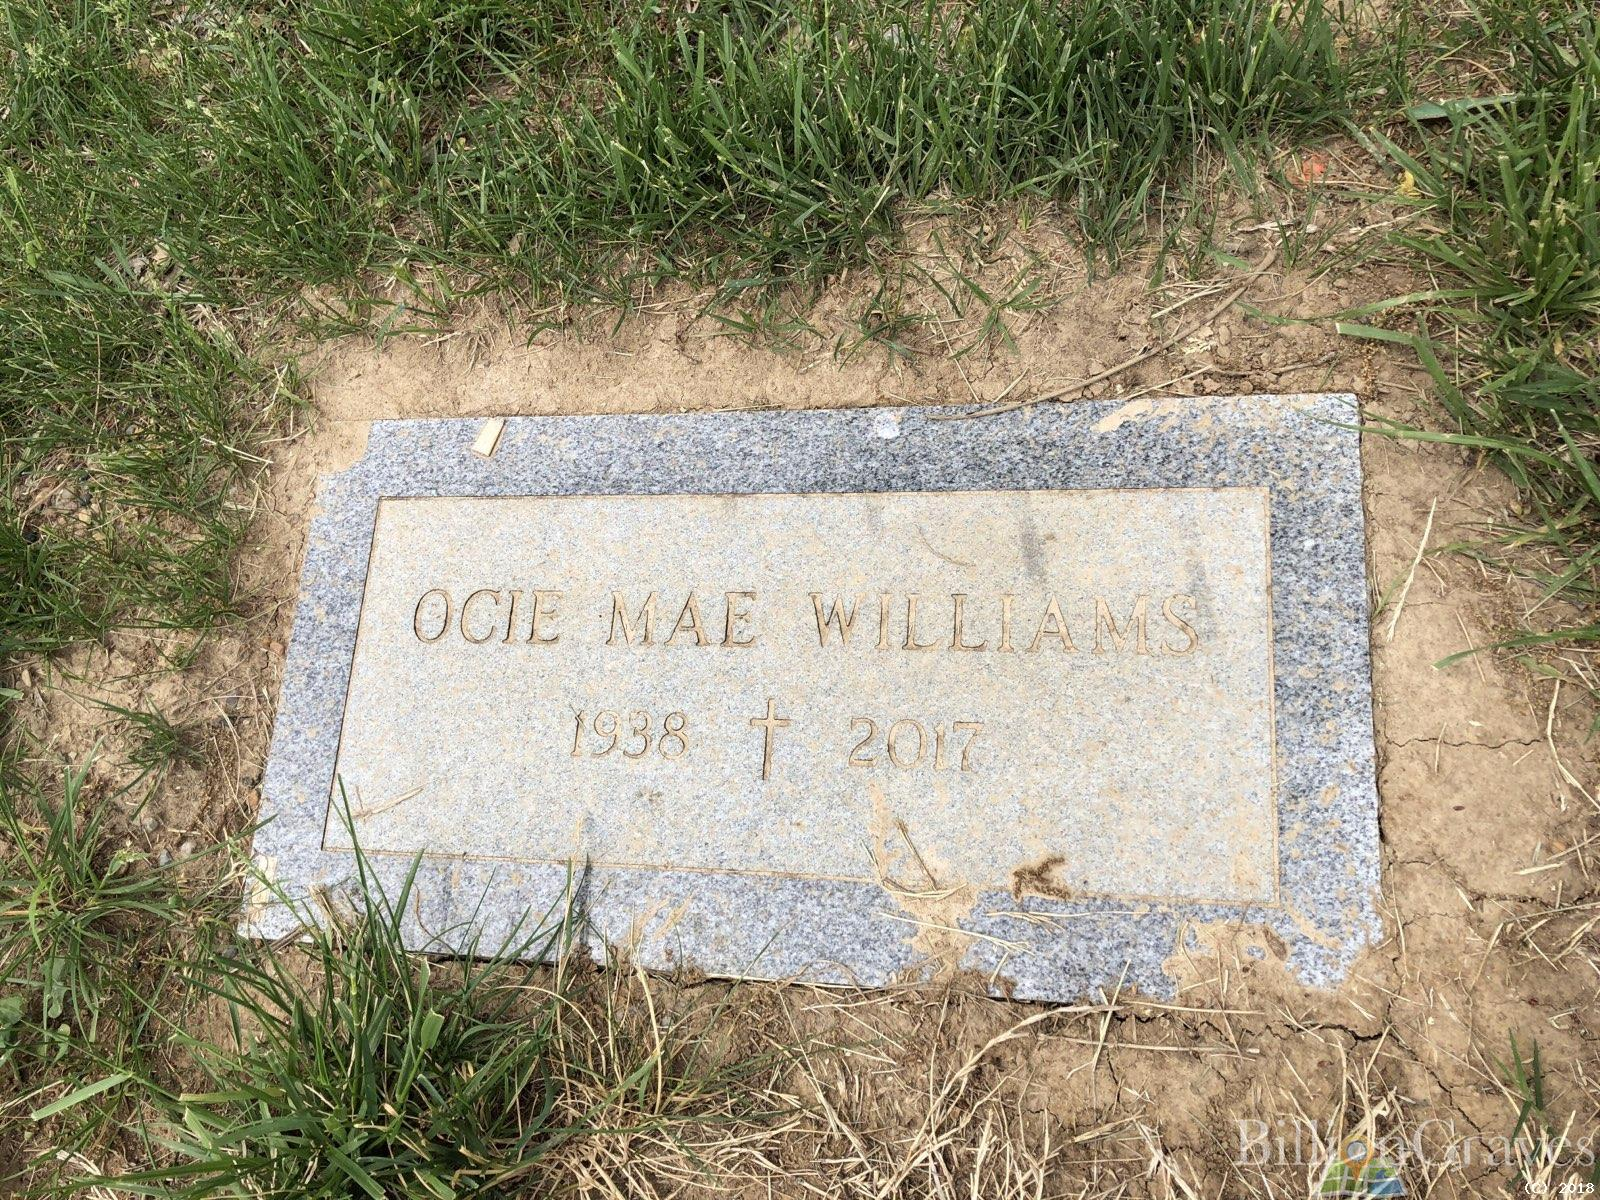flat: (226, 364, 1409, 1056)
